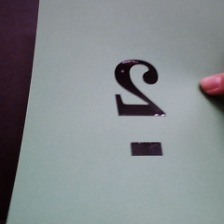green2: (107, 54, 177, 164)
